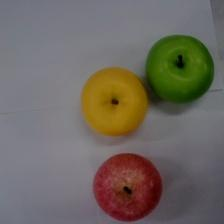green: (147, 34, 213, 103)
red: (93, 153, 162, 223)
yellow: (81, 67, 150, 137)
